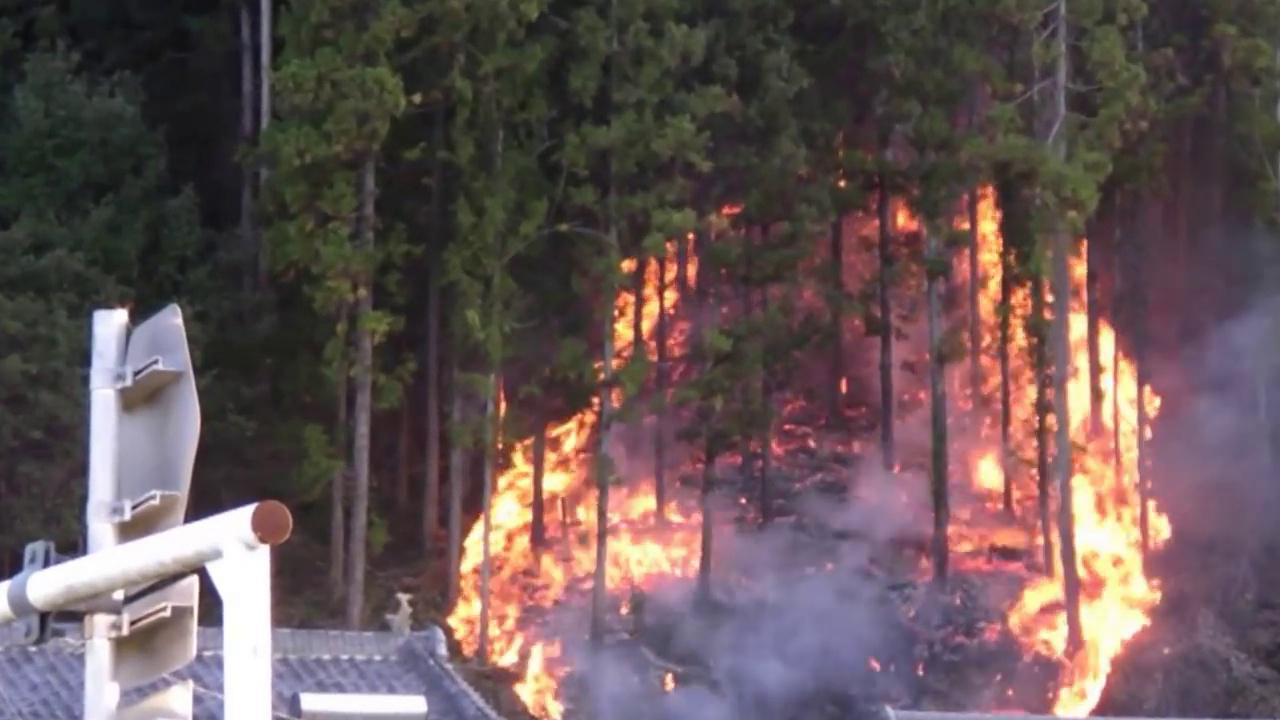Fire: (942, 184, 1194, 718), (447, 232, 702, 719), (894, 208, 915, 229)
